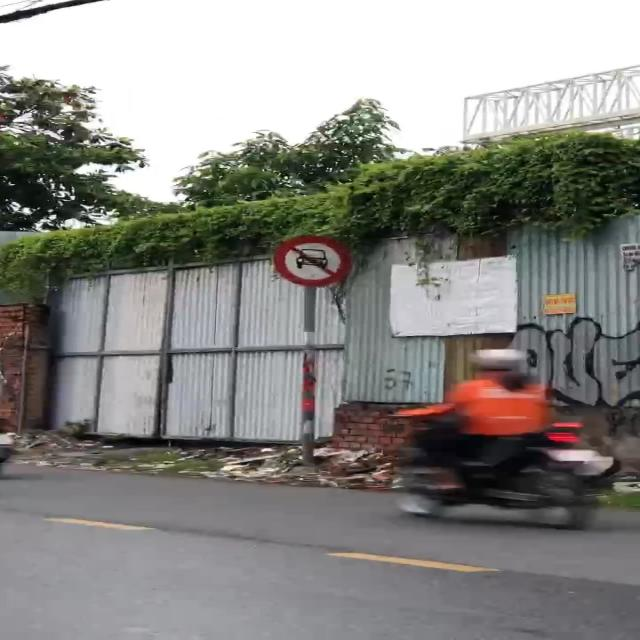Bien bao cam xe oto: (270, 232, 357, 288)
